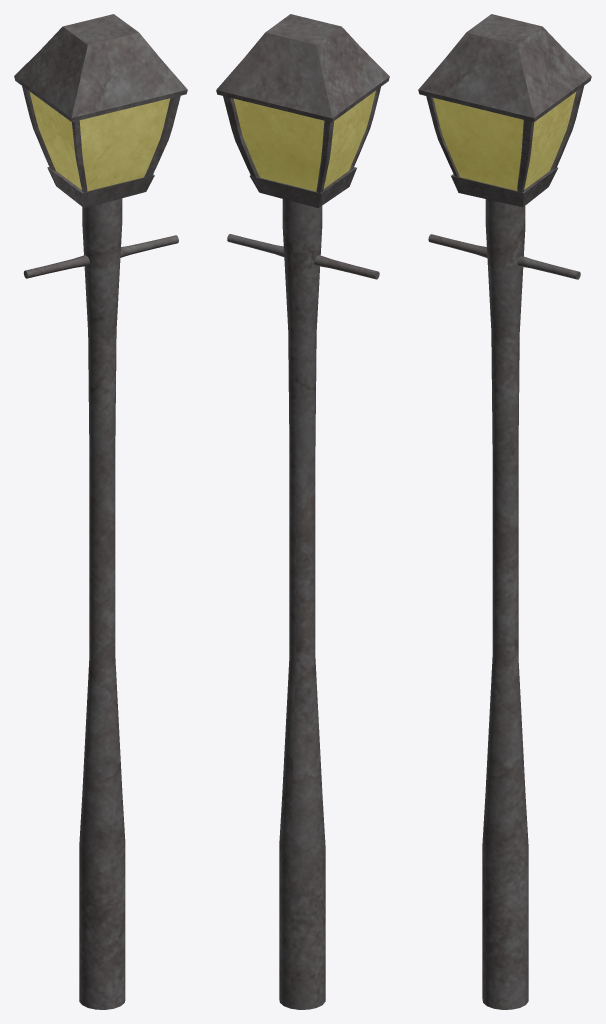
The model's file is lamp post.gltf.
The picture shows the model from 3 angles, left to right: view 1: azimuth 30°, elevation 25°; view 2: azimuth 150°, elevation 25°; view 3: azimuth 330°, elevation 25°; orthographic projection.
Parts seen in each view (by area): view 1: Cube.001; view 2: Cube.001; view 3: Cube.001.
Boxes of the visible parts, x1,y1,x2,y2 form: Cube.001: (14, 14, 187, 1009); Cube.001: (216, 14, 389, 1009); Cube.001: (418, 14, 591, 1009).
Bounding box in the file's own units: 5.99 × 37.14 × 3.98.
Materials: 2 (2 with a texture image).
